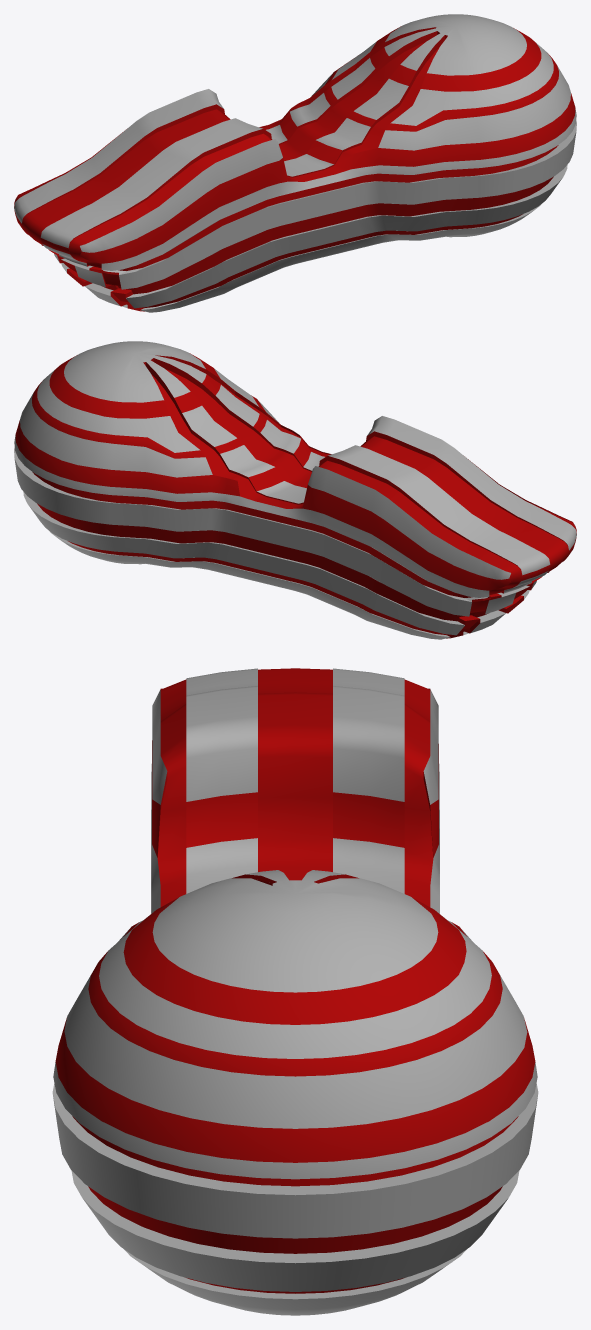
Rendered from Pod_Base.fbx.
3 views of the same model, one above another, from view 1: azimuth 30°, elevation 25°; view 2: azimuth 150°, elevation 25°; view 3: azimuth 270°, elevation 25° (orthographic). The views are drawn at different scales.
Visible parts, largest first — view 1: polySurface13; view 2: polySurface13; view 3: polySurface13.
Part boxes in pixels (x1,y1,x2,y2): polySurface13: [14, 14, 576, 312]; polySurface13: [14, 341, 576, 639]; polySurface13: [52, 668, 538, 1315].
Size of the model in its own units: 1.63 by 0.5813 by 0.6446.
